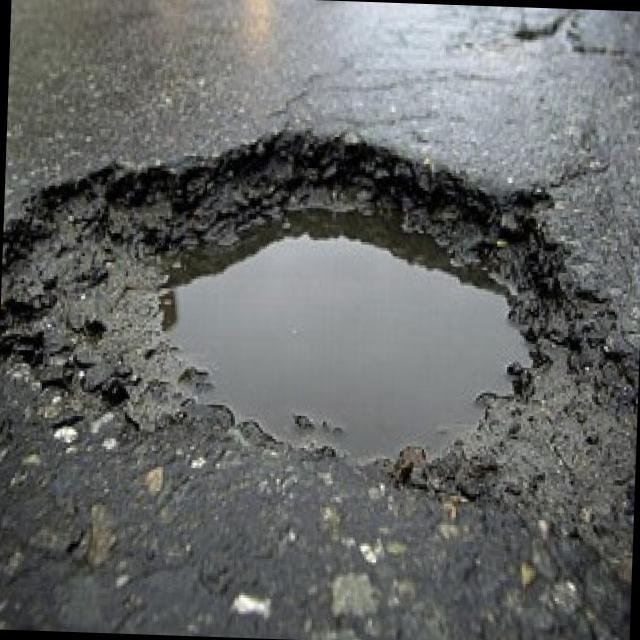Pothole: (0, 138, 616, 511)
